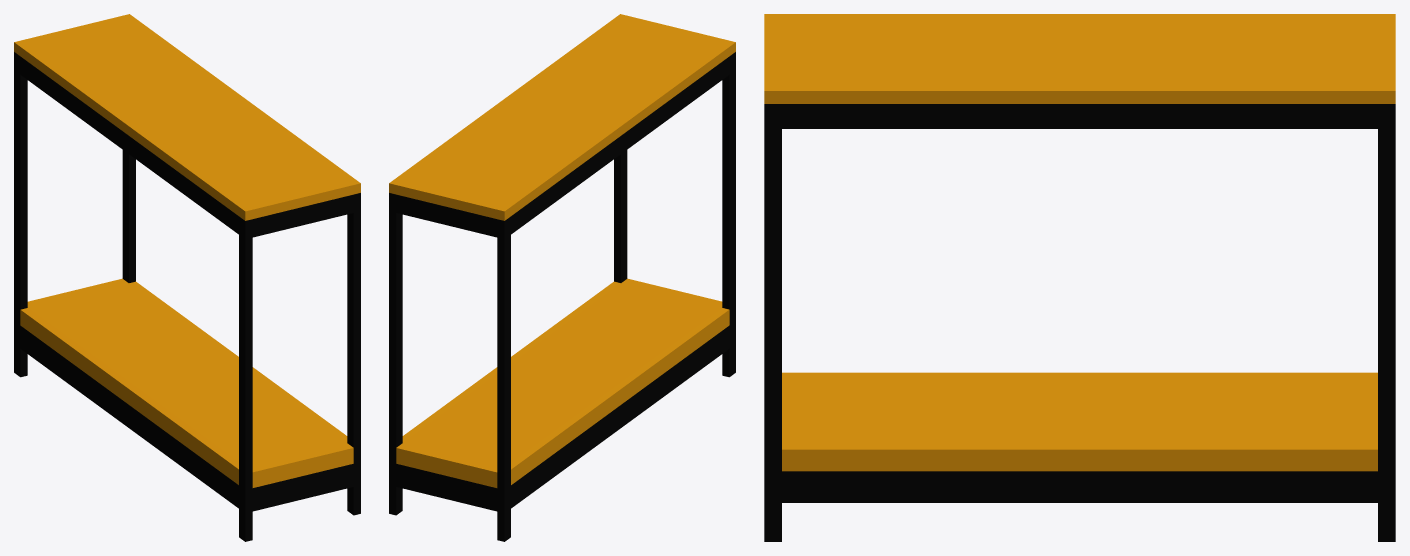
Rendered from mesa do corredor.fbx.
The picture shows the model from 3 angles, left to right: view 1: azimuth 30°, elevation 25°; view 2: azimuth 150°, elevation 25°; view 3: azimuth 270°, elevation 25°; orthographic projection. The views are drawn at different scales.
Visible parts, largest first — view 1: Cube; view 2: Cube; view 3: Cube.
Part boxes in pixels (box(x1,y1,x2,y2)): Cube: box(14, 14, 360, 541); Cube: box(389, 14, 735, 541); Cube: box(764, 14, 1395, 541).
Bounding box in the file's own units: 30 × 82 × 104.
